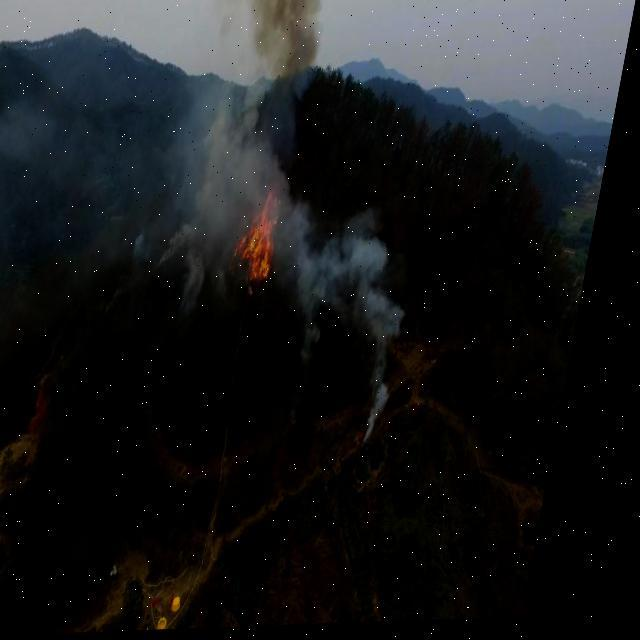Fire: (182, 116, 340, 316)
